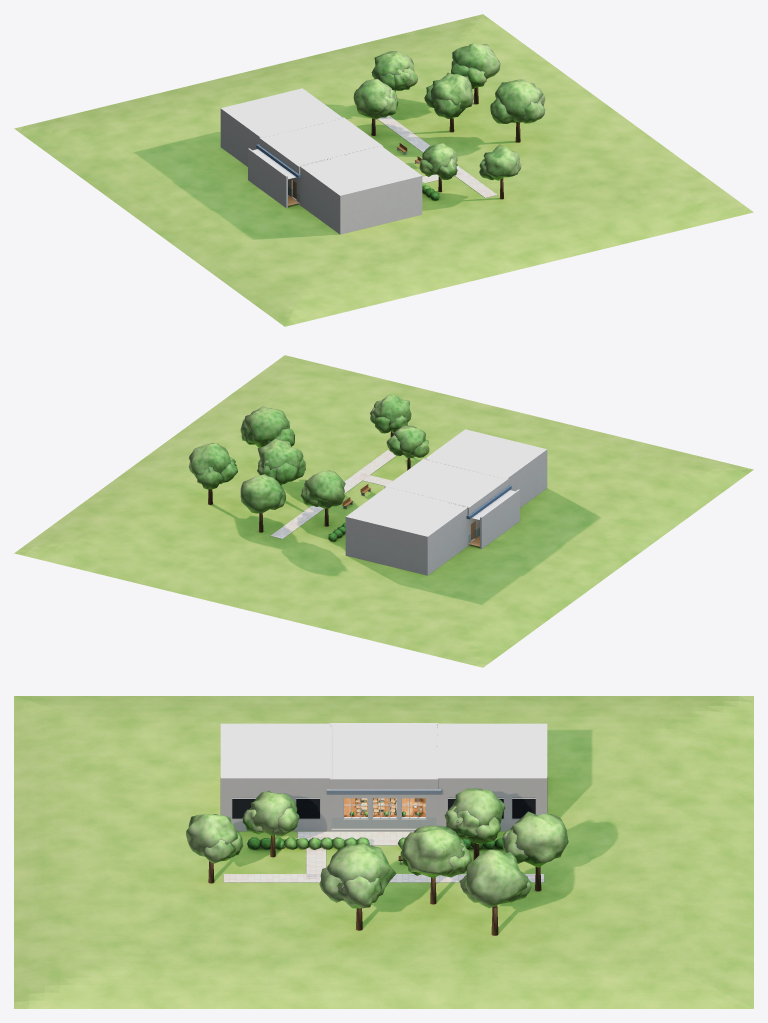
File: classroom_v2.glb
3 views of the same model, one above another, from view 1: azimuth 30°, elevation 25°; view 2: azimuth 150°, elevation 25°; view 3: azimuth 270°, elevation 25° (orthographic). The views are drawn at different scales.
Visible parts, largest first — view 1: BK_ground, BK_ext, BK_trees; view 2: BK_ground, BK_ext, BK_trees; view 3: BK_ground, BK_ext, BK_trees, BK_shell, BK_floor.
Part boxes in pixels (x1=…): BK_ground: x1=14, y1=14, x2=753, y2=326; BK_ext: x1=220, y1=88, x2=422, y2=234; BK_trees: x1=353, y1=43, x2=545, y2=200; BK_ground: x1=14, y1=355, x2=753, y2=667; BK_ext: x1=345, y1=429, x2=547, y2=575; BK_trees: x1=189, y1=394, x2=429, y2=541; BK_ground: x1=14, y1=696, x2=753, y2=1008; BK_ext: x1=220, y1=723, x2=547, y2=831; BK_trees: x1=186, y1=788, x2=568, y2=935; BK_shell: x1=331, y1=794, x2=436, y2=828; BK_floor: x1=344, y1=798, x2=425, y2=815.
Bounding box in the file's own units: 60 × 7.94 × 60.
Materials: 9 (9 with a texture image).
